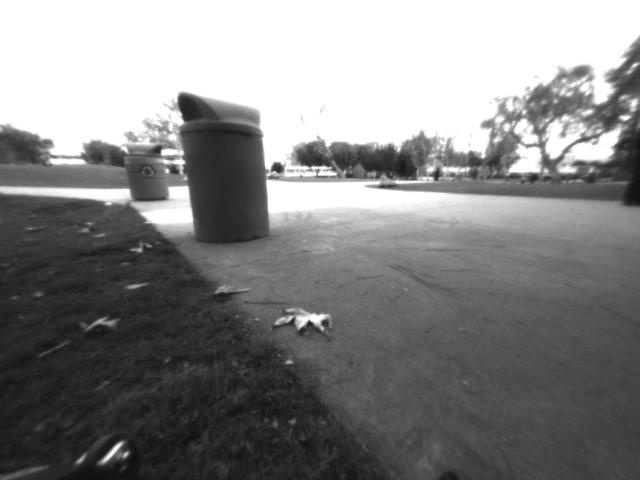trashcan: (170, 84, 280, 247)
